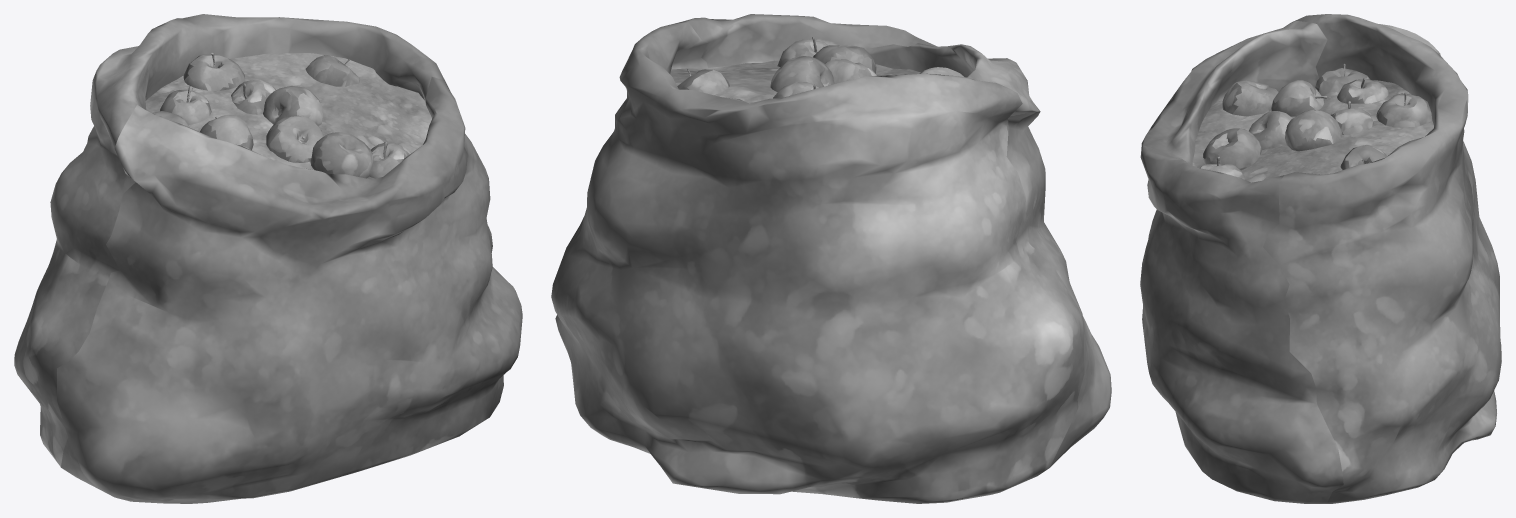
File: SM_FoodSac_01f.fbx
3 renders of one model, left to right at view 1: azimuth 30°, elevation 25°; view 2: azimuth 150°, elevation 25°; view 3: azimuth 270°, elevation 25°, orthographic. The views are drawn at different scales.
Parts seen in each view (by area): view 1: SM_FoodSac_01f_LOD0; view 2: SM_FoodSac_01f_LOD0; view 3: SM_FoodSac_01f_LOD0.
Boxes of the visible parts, x1=… form: SM_FoodSac_01f_LOD0: x1=14, y1=14, x2=522, y2=503; SM_FoodSac_01f_LOD0: x1=551, y1=14, x2=1111, y2=503; SM_FoodSac_01f_LOD0: x1=1140, y1=14, x2=1501, y2=503.
Size of the model in its own units: 91.93 by 65.23 by 70.02.
